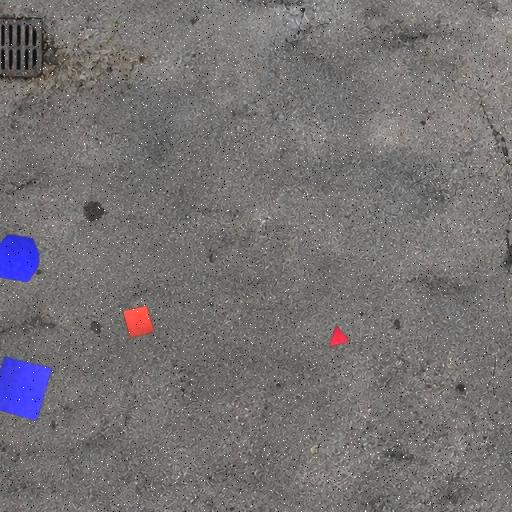BLUE_SQUARE: (0, 356, 53, 422)
RED_SQUARE: (122, 305, 155, 338)
